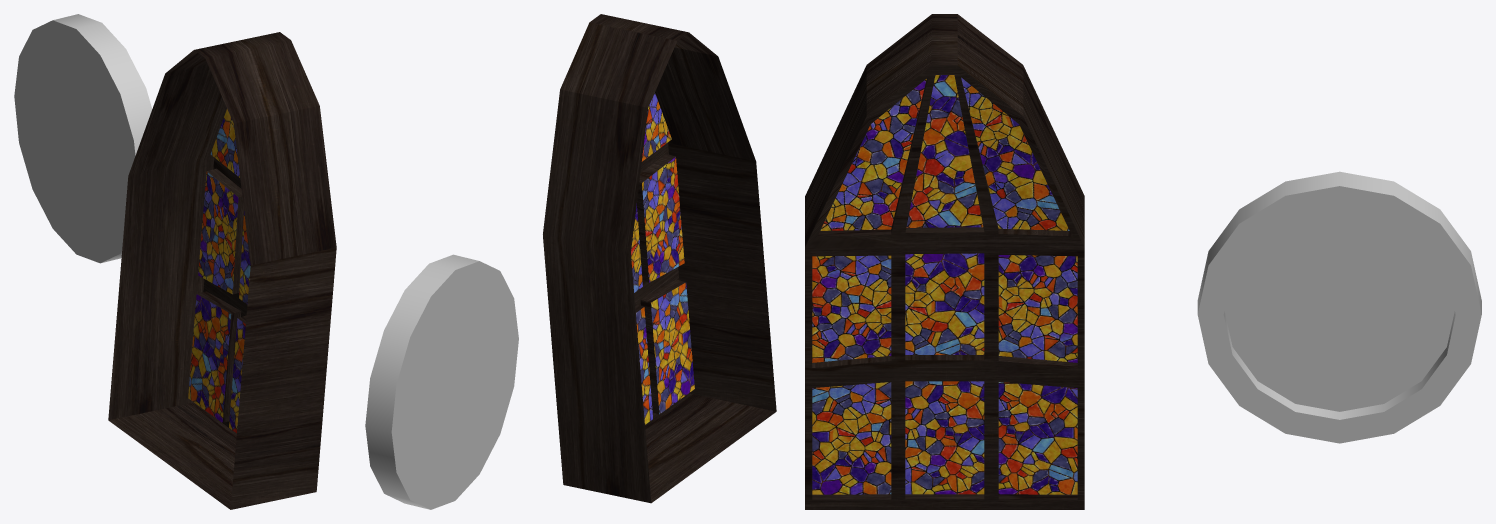
Rendered from uploads_files_2998137_gothic+windows+fbx.fbx.
The picture shows the model from 3 angles, left to right: view 1: azimuth 30°, elevation 25°; view 2: azimuth 150°, elevation 25°; view 3: azimuth 270°, elevation 25°; orthographic projection. The views are drawn at different scales.
Visible parts, largest first — view 1: window, round_window; view 2: window, round_window; view 3: window, round_window.
Part boxes in pixels (x1,y1,x2,y2): window: (108,32,336,509); round_window: (14,14,152,263); window: (543,14,776,503); round_window: (365,254,518,509); window: (805,14,1084,509); round_window: (1197,171,1481,443).
Size of the model in its own units: 181 by 607 by 801.
